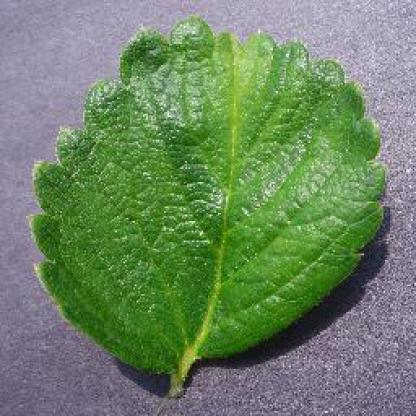healthy: (26, 11, 393, 400)
